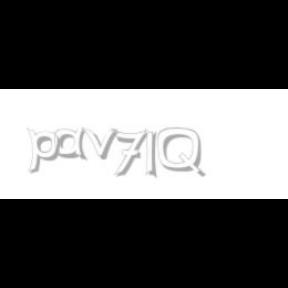7: (112, 128, 148, 178)
Q: (158, 128, 204, 178)
a: (54, 128, 92, 160)
l: (145, 128, 161, 180)
p: (26, 128, 64, 174)
v: (82, 128, 122, 160)
